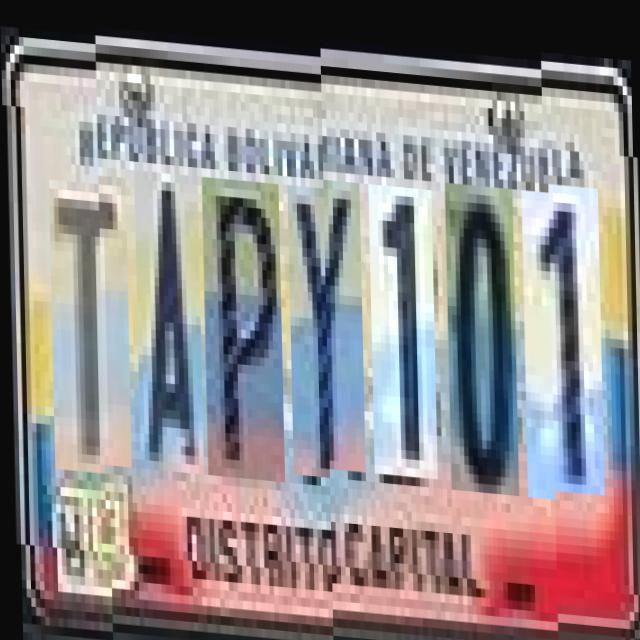1: (520, 179, 602, 492), (368, 177, 436, 470)
A: (134, 159, 202, 462)
O: (444, 174, 517, 486)
P: (200, 164, 282, 468)
T: (48, 162, 130, 456)
Y: (286, 170, 364, 465)
